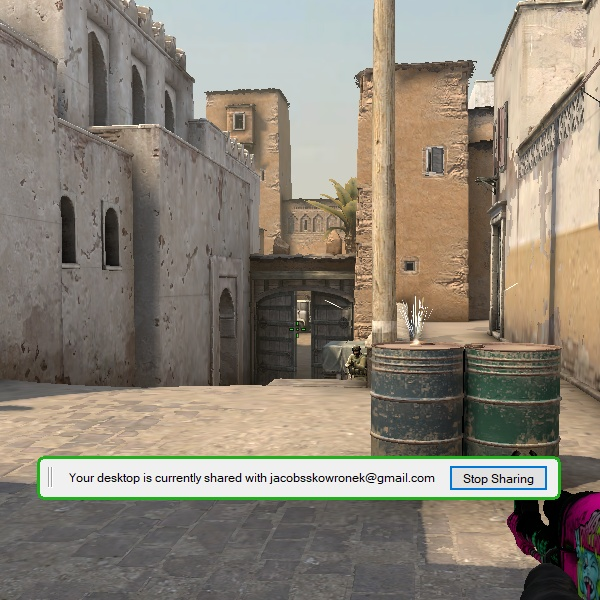ct_body: (345, 344, 370, 383)
ct_head: (352, 345, 363, 359)
